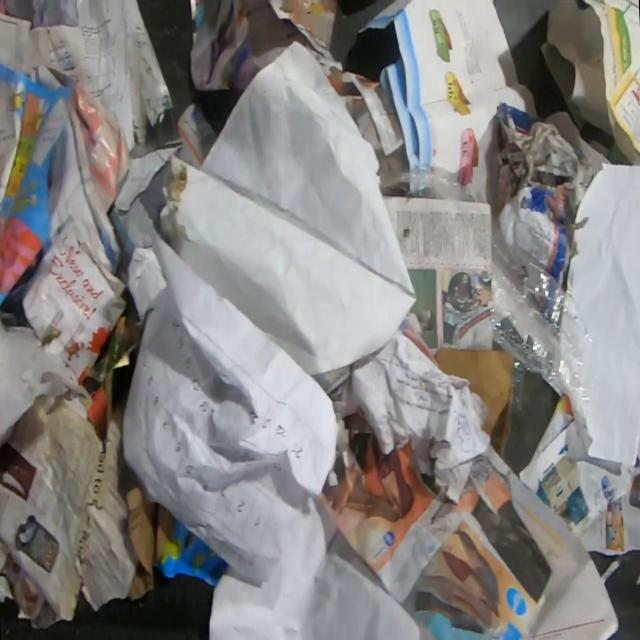cardboard: (74, 396, 146, 613), (124, 483, 229, 602), (431, 345, 517, 465)
soft_plastic: (483, 204, 603, 412), (0, 307, 92, 448), (378, 166, 478, 204)
